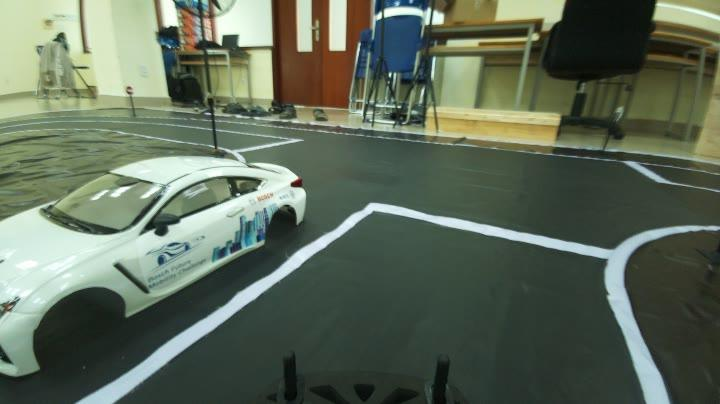car: (3, 158, 307, 359)
